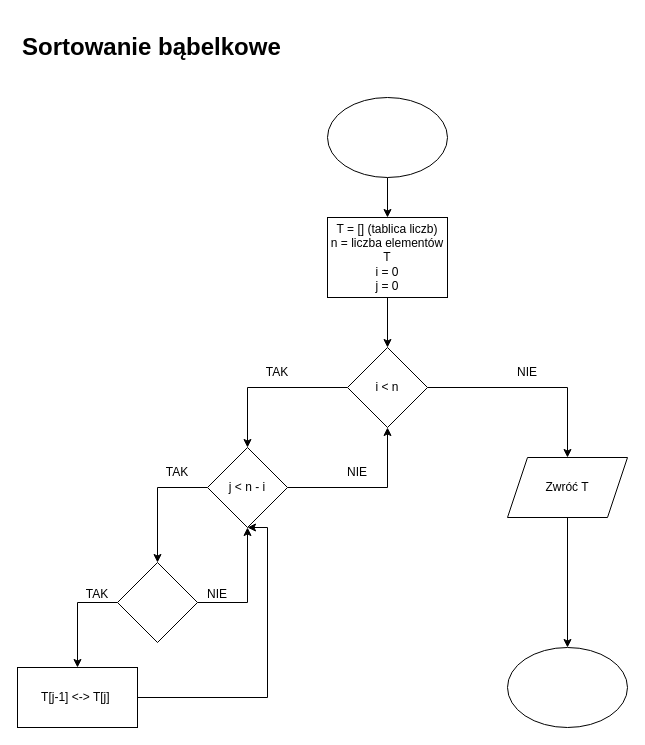
This 645x745 diagram has some shape labels left out. The centre of each missing label's shape, as x and y in pixels:
"START" goes at [387,137].
"STOP" goes at [567,687].
"T[j-1] > T[j]" goes at [157,602].
